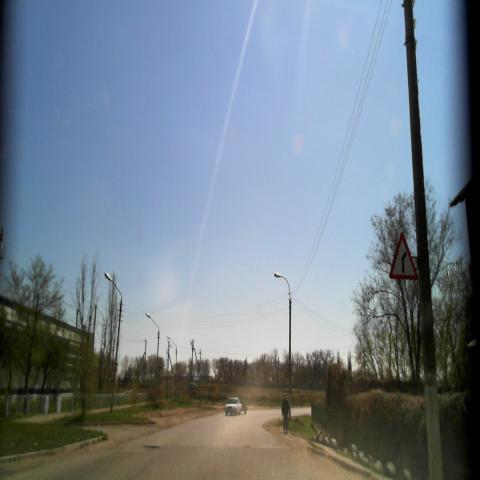1_11: (388, 230, 418, 276)
